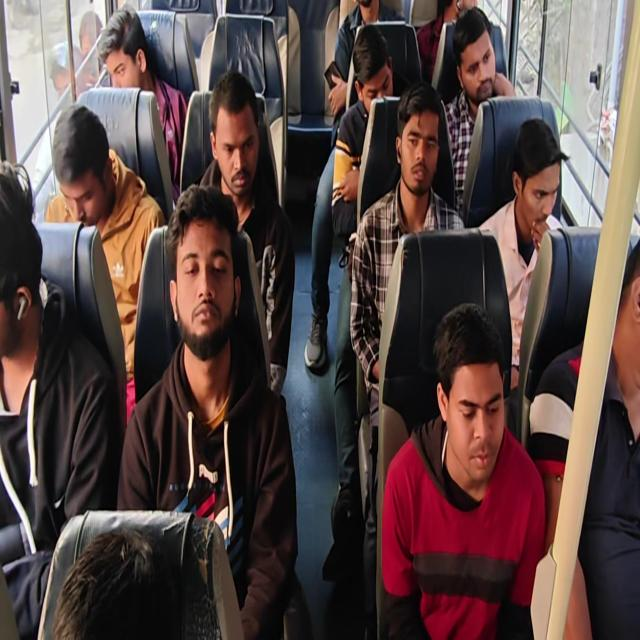person: (48, 516, 244, 640), (429, 308, 507, 492), (160, 182, 242, 340), (43, 93, 120, 230), (197, 78, 270, 202), (0, 155, 45, 352), (506, 111, 565, 231), (395, 76, 446, 192), (98, 5, 149, 101), (450, 7, 497, 110), (612, 228, 640, 400), (348, 30, 404, 111), (438, 0, 484, 22), (349, 0, 386, 23)
